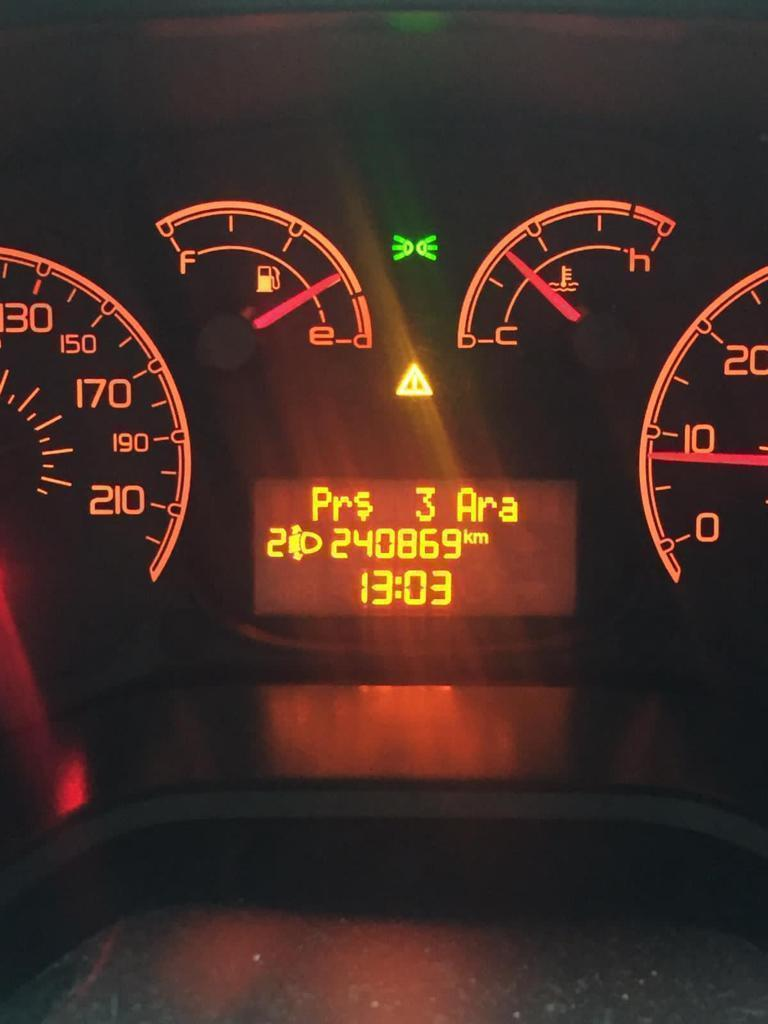0: (403, 568, 428, 607), (374, 526, 396, 559)
1: (357, 567, 369, 606)
2: (264, 525, 287, 559), (329, 526, 351, 560)
3: (412, 484, 437, 523), (428, 569, 453, 607), (370, 566, 393, 607)
4: (351, 527, 374, 558)
6: (418, 526, 440, 560)
8: (396, 525, 417, 560)
9: (440, 526, 462, 560)
X: (308, 484, 331, 522), (454, 485, 477, 523), (353, 489, 374, 522), (330, 493, 353, 522), (497, 494, 520, 523), (477, 493, 496, 523), (393, 574, 403, 599), (472, 531, 490, 544), (462, 527, 473, 544)
odometer: (246, 471, 581, 621)
